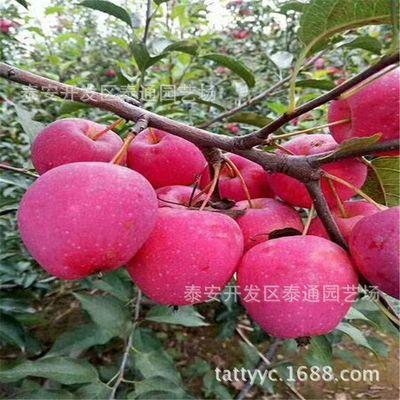apple: (16, 162, 161, 280), (236, 235, 360, 341), (125, 208, 242, 306), (267, 134, 367, 206), (326, 71, 400, 155), (119, 127, 206, 191), (30, 116, 123, 175), (351, 206, 400, 300), (230, 197, 305, 246), (208, 153, 271, 200)
